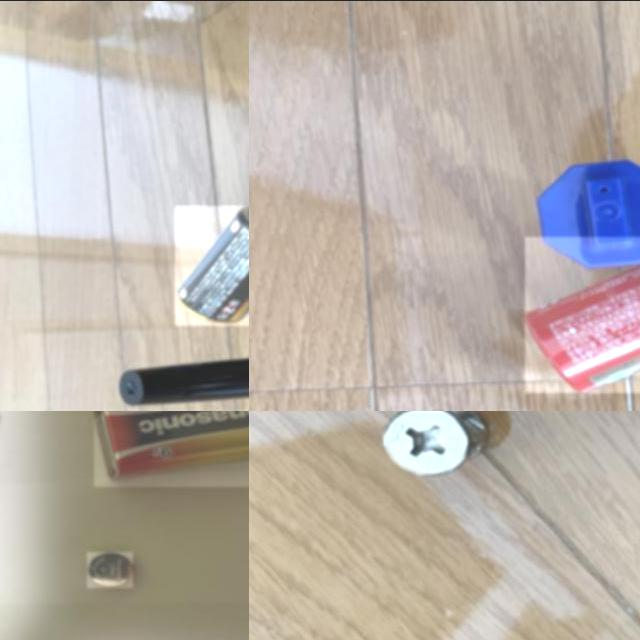9V: (94, 410, 249, 486)
